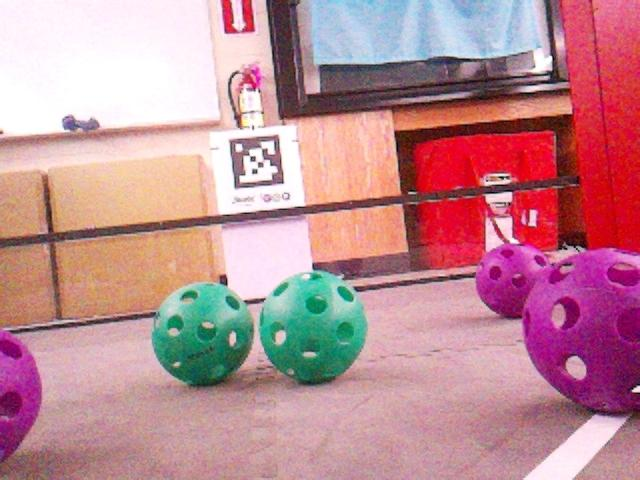Green: (256, 270, 368, 383), (151, 283, 255, 385)
Purple: (521, 249, 640, 413), (0, 328, 42, 468), (474, 241, 552, 316)
